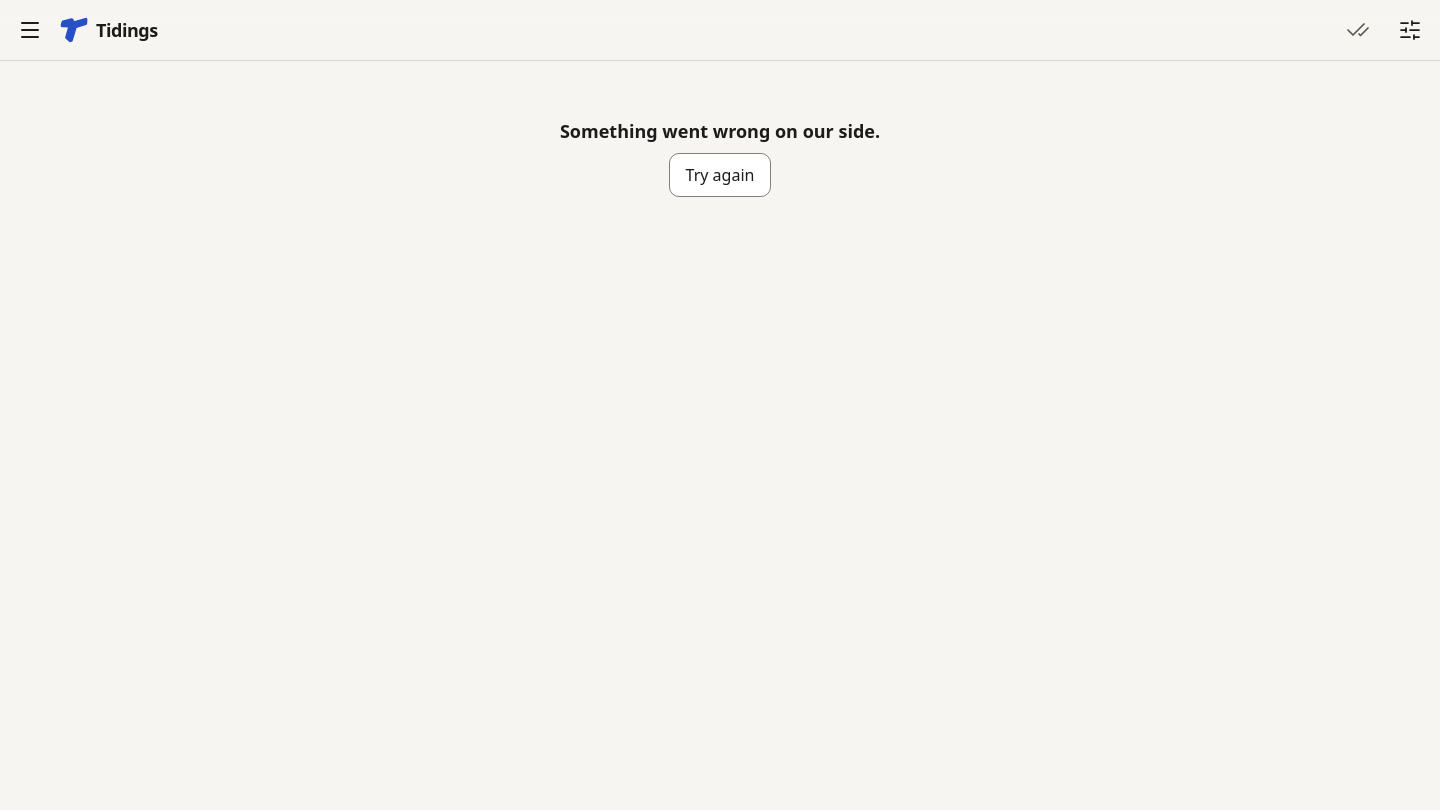
Test: AC7: empty states › a server error shows Try again in place of the list
Expected: the heading "Something went wrong on our side." is shown, [560,119,880,143]
Step 1. Click the button "Try again" → (720, 175), box [669,153,771,197]
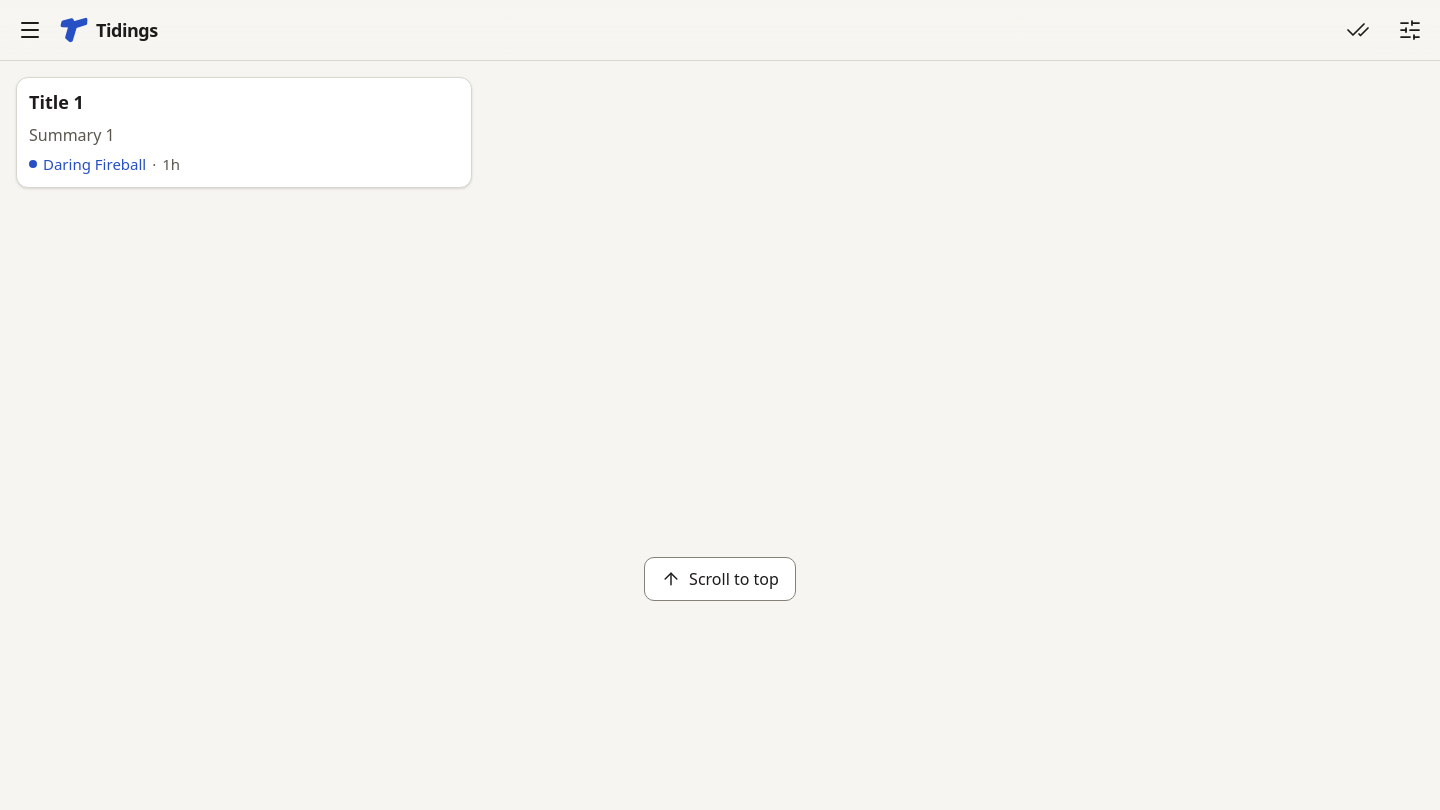
Expected: the heading "Title 1" is shown, [29,90,84,114]
